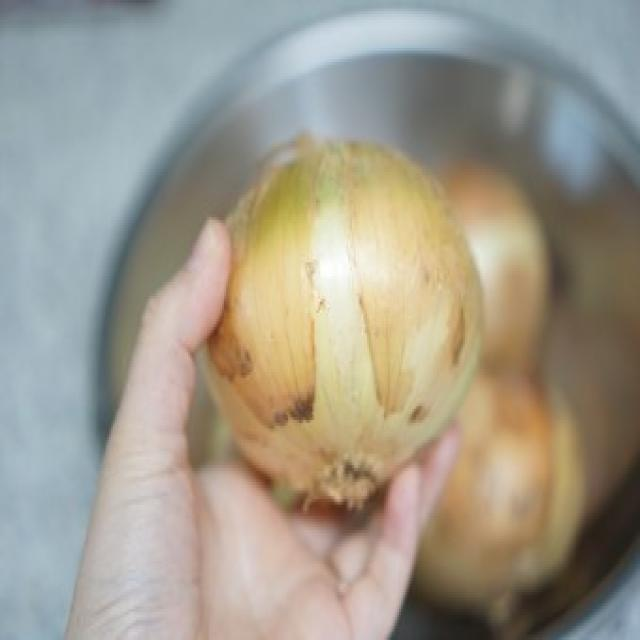onion: (194, 133, 484, 532), (415, 364, 579, 624), (432, 162, 550, 379)
